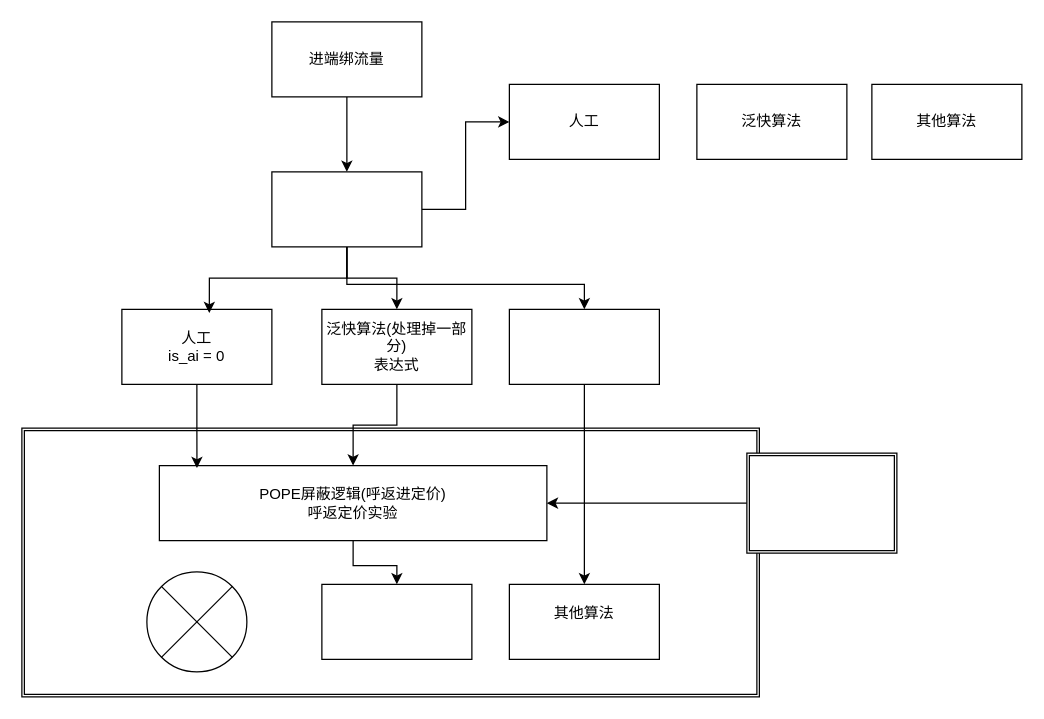
Some shapes in this 1044 by 719 pixel diagram are drawn without their labels. Here are the shapes that lost their labels. From the top down, the box of each, then its label:
(271, 171, 422, 247): crm
(508, 308, 659, 384): 其他算法 ddo命中/不命中 namespace=xxx
(746, 452, 897, 553): 配置
(321, 583, 472, 659): 泛快算法(处理掉一部分)
